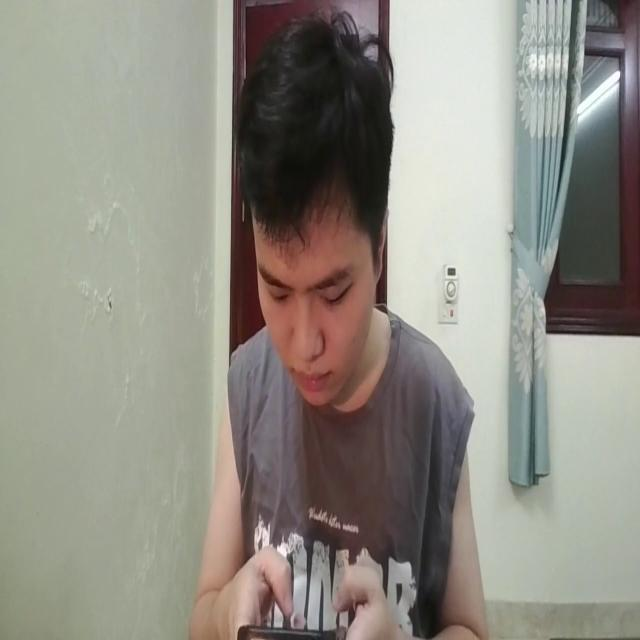student: (189, 10, 491, 640)
